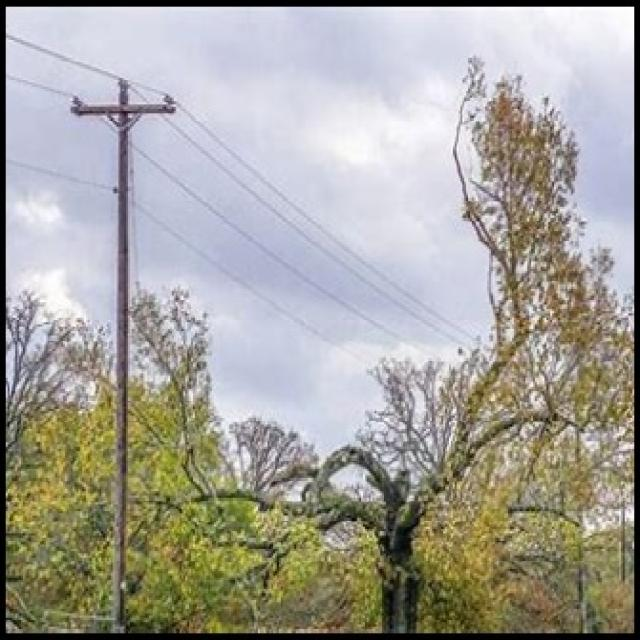utility poles: (74, 49, 163, 636)
